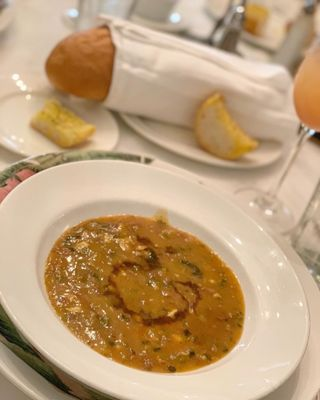pasta: (193, 92, 260, 161)
sushi: (8, 159, 317, 399)
